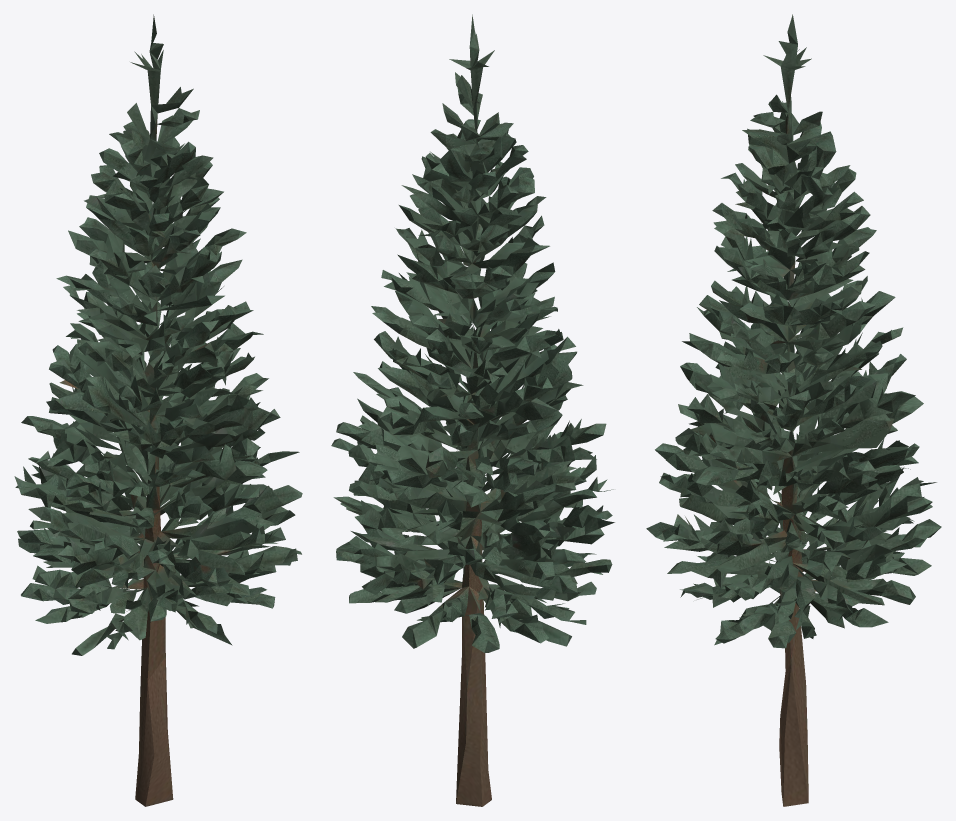
Rendered from tree.glb.
3 renders of one model, left to right at view 1: azimuth 30°, elevation 25°; view 2: azimuth 150°, elevation 25°; view 3: azimuth 270°, elevation 25°, orthographic.
Size of the model in its own units: 0.1711 by 0.5 by 0.1705.
Materials: 1 (1 with a texture image).
